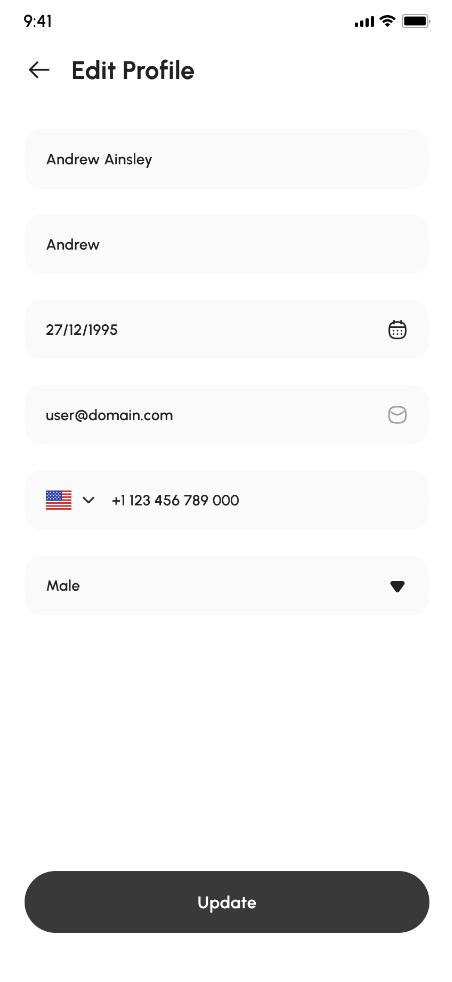IconButton: (23, 52, 53, 84)
